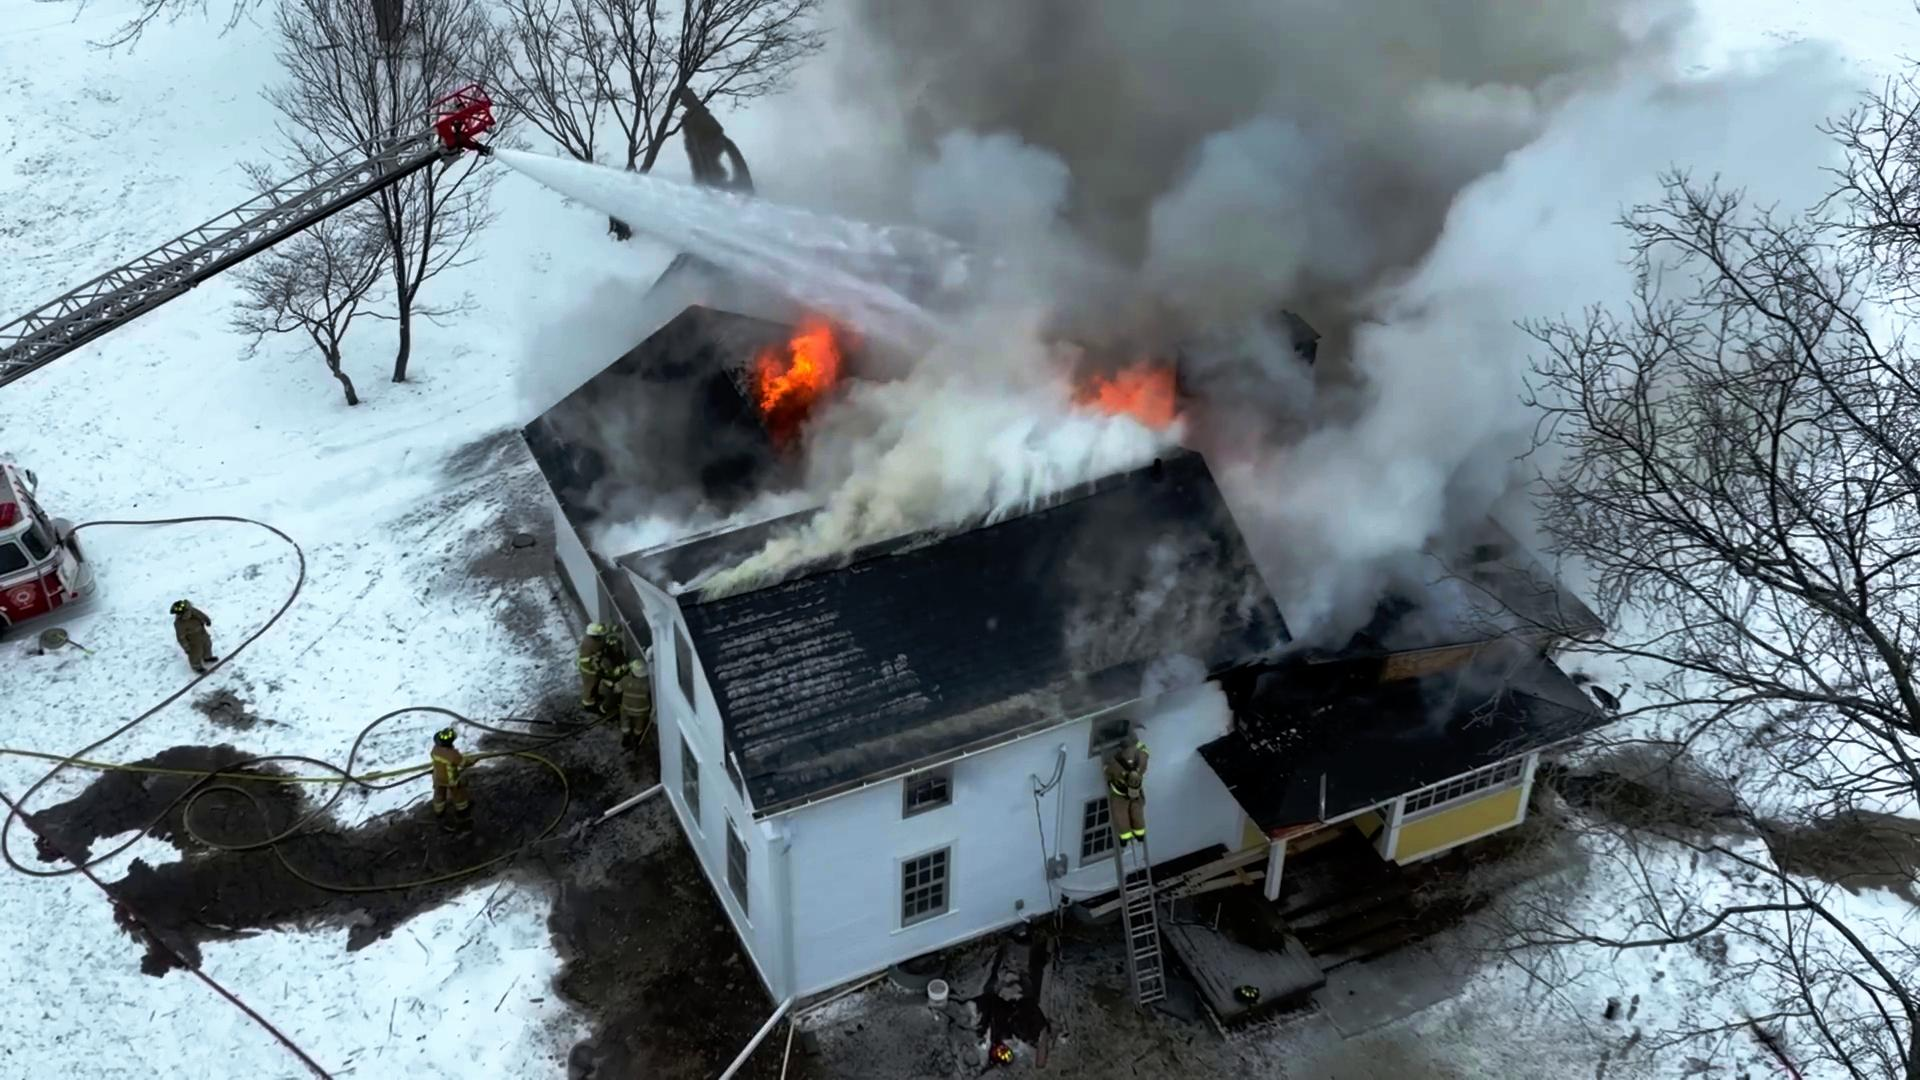fire: (1071, 343, 1218, 452), (756, 326, 837, 405)
smoke: (881, 61, 1505, 315)
